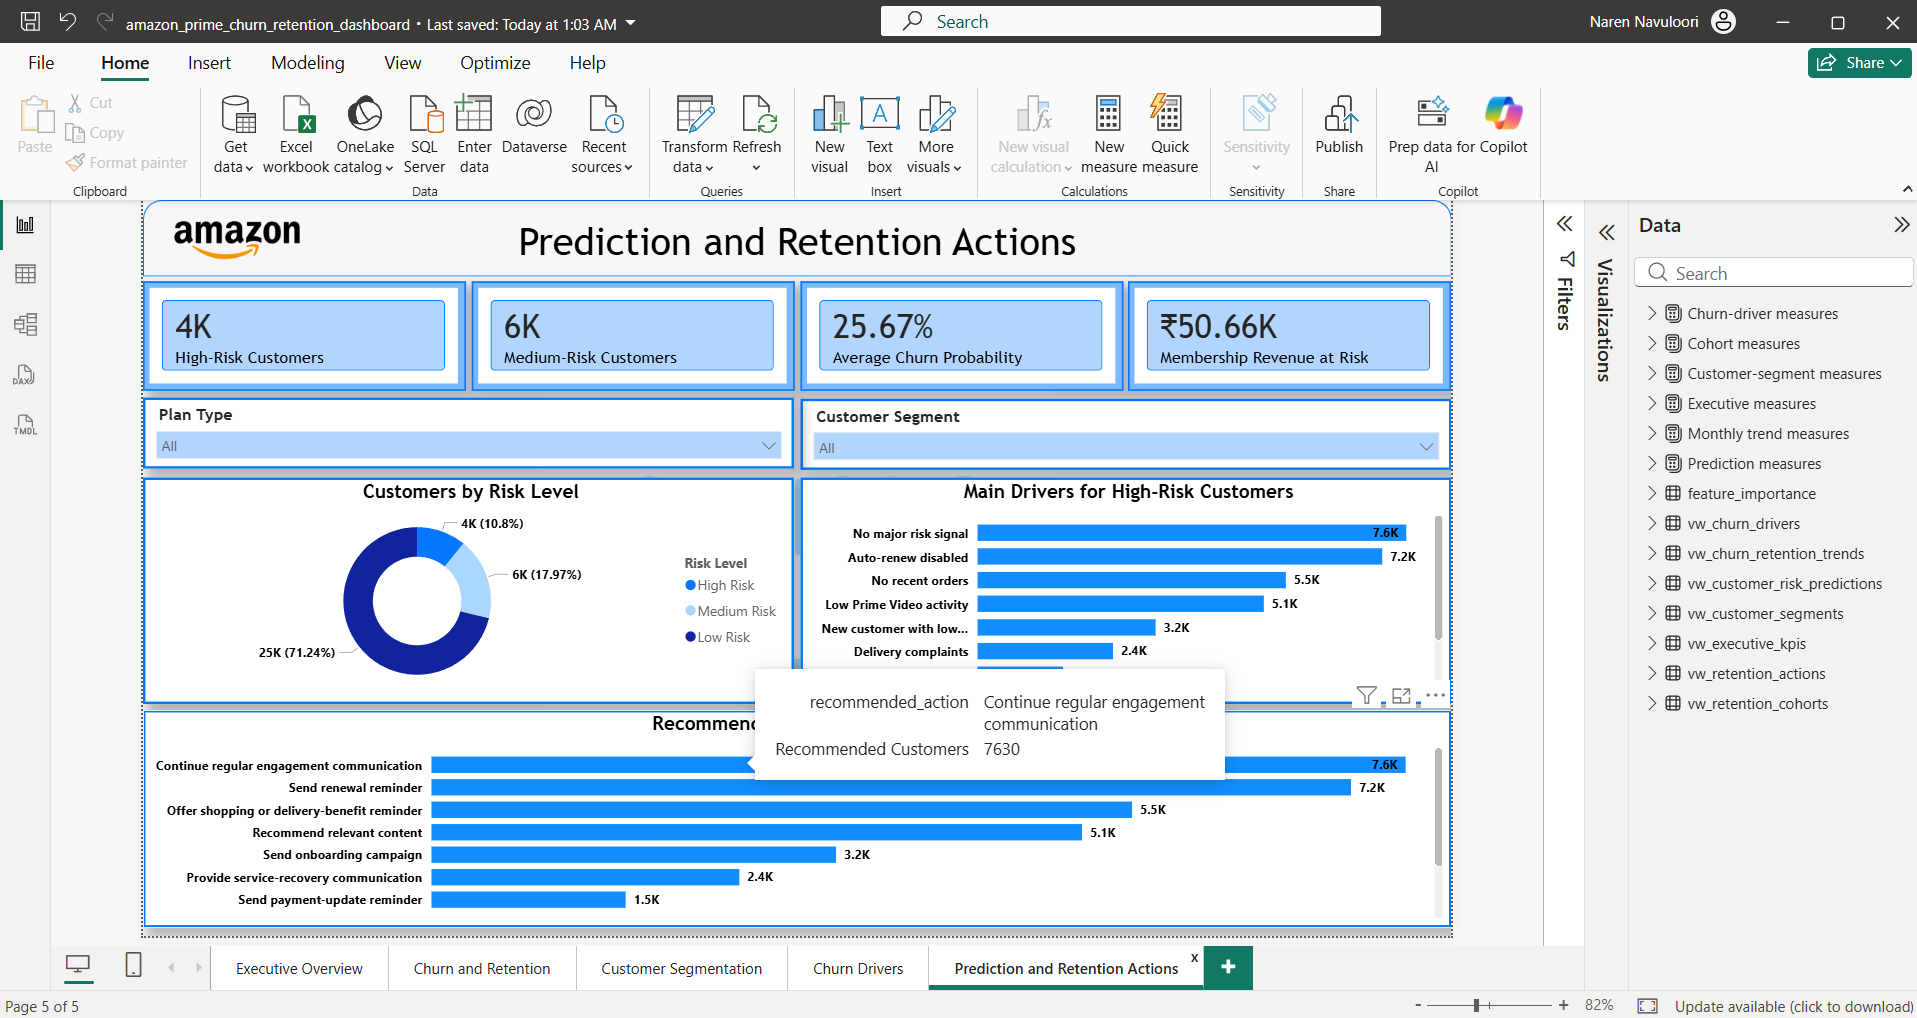

The dashboard page shown, as its layout file describes it:
{"tool":"powerbi","page":{"name":"Prediction and Retention Actions","canvas":[1280,720],"ordinal":4},"visuals":[{"type":"shape","box":[0,0,1280.2,74.9],"z":0},{"type":"image","box":[11,17.1,160.2,41.6],"z":1000},{"type":"cardVisual","fields":{"Data":["Executive measures.High-Risk Customers"]},"box":[0,79.3,316,107],"z":1001},{"type":"cardVisual","fields":{"Data":["Executive measures.Medium-Risk Customers"]},"box":[321.4,79.3,316,107],"z":1002},{"type":"cardVisual","fields":{"Data":["Executive measures.Average Churn Probability"]},"box":[642.9,79.3,316,107],"z":1003},{"type":"cardVisual","fields":{"Data":["Executive measures.Membership Revenue at Risk"]},"box":[964,79.3,316,107],"z":1004},{"type":"slicer","fields":{"Values":["vw_customer_risk_predictions.customer_segment"]},"box":[643.3,193.9,637,69.2],"z":1005},{"type":"slicer","fields":{"Values":["vw_customer_risk_predictions.plan_type"]},"box":[0,192.6,637,69.2],"z":1006},{"type":"donutChart","title":"Customers by Risk Level","fields":{"Category":["vw_customer_risk_predictions.risk_level"],"Y":["Prediction measures.Risk Customers"]},"box":[0,271.9,637,221.6],"z":1007},{"type":"clusteredBarChart","title":"Main Drivers for High-Risk Customers","fields":{"Category":["vw_customer_risk_predictions.top_risk_driver"],"Y":["Prediction measures.Risk Customers"]},"box":[643.3,271.9,637,221.6],"z":1008},{"type":"clusteredBarChart","title":"Recommended Retention Actions","fields":{"Category":["vw_customer_risk_predictions.recommended_action"],"Y":["Prediction measures.Recommended Customers"]},"box":[0,498.5,1280.3,212.7],"z":1009}]}

Visuals, with their boxes on the page's 1280x720 design canvas (x1, y1, x2, y2). These are canvas units, not pixel positions in the 1917x1018 screenshot, which may show the page scaled, cropped or inside an application window:
shape: l=0, t=0, r=1280, b=75
image: l=11, t=17, r=171, b=59
cardVisual - Executive measures.High-Risk Customers: l=0, t=79, r=316, b=186
cardVisual - Executive measures.Medium-Risk Customers: l=321, t=79, r=637, b=186
cardVisual - Executive measures.Average Churn Probability: l=643, t=79, r=959, b=186
cardVisual - Executive measures.Membership Revenue at Risk: l=964, t=79, r=1280, b=186
slicer - vw_customer_risk_predictions.customer_segment: l=643, t=194, r=1280, b=263
slicer - vw_customer_risk_predictions.plan_type: l=0, t=193, r=637, b=262
"Customers by Risk Level" donutChart: l=0, t=272, r=637, b=494
"Main Drivers for High-Risk Customers" clusteredBarChart: l=643, t=272, r=1280, b=494
"Recommended Retention Actions" clusteredBarChart: l=0, t=498, r=1280, b=711
